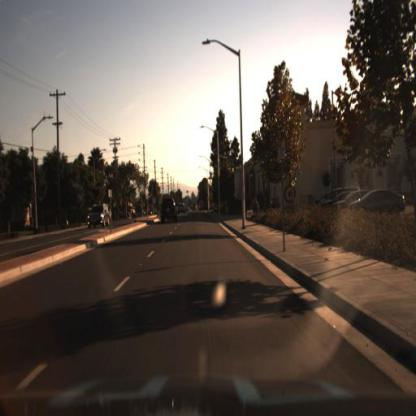car: (350, 190, 411, 213), (336, 188, 370, 214), (156, 196, 181, 228), (86, 203, 113, 231), (160, 192, 179, 230), (176, 201, 189, 219)
